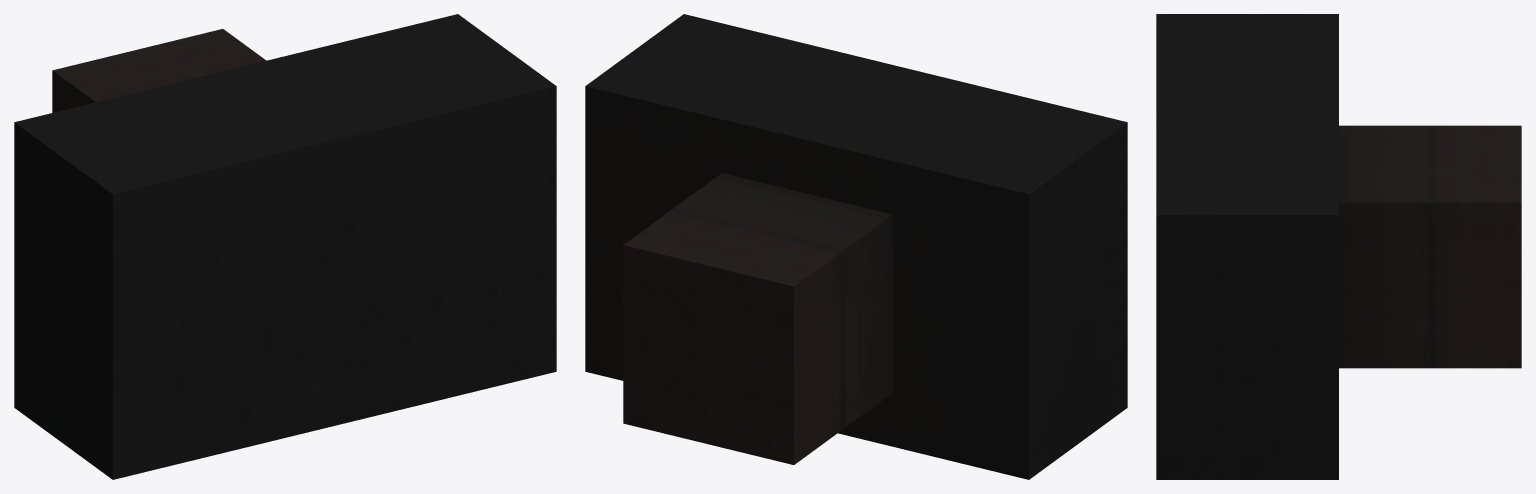
File: basket_button.glb
The picture shows the model from 3 angles, left to right: view 1: azimuth 30°, elevation 25°; view 2: azimuth 150°, elevation 25°; view 3: azimuth 270°, elevation 25°; orthographic projection. The views are drawn at different scales.
Visible parts, largest first — view 1: geometry_0; view 2: geometry_0; view 3: geometry_0.
Boxes of the visible parts, bbox=[...] form: geometry_0: bbox=[14, 14, 556, 479]; geometry_0: bbox=[585, 14, 1127, 479]; geometry_0: bbox=[1156, 14, 1521, 479].
Bounding box in the file's own units: 0.026 × 0.016 × 0.02.
1 material, 1 textured.
